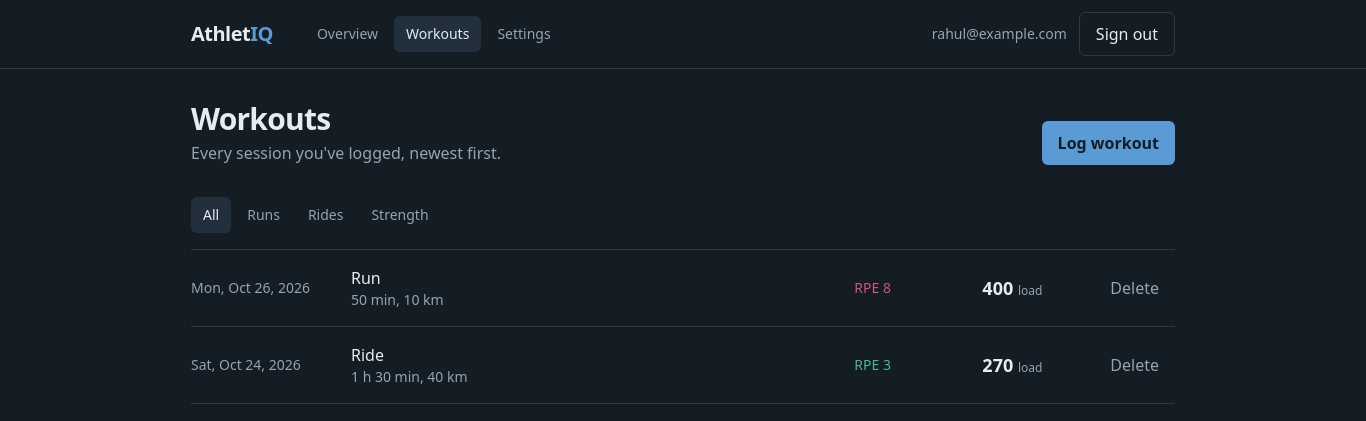
it: WorkoutsPage › filters by type through the API
Expected: the list named "Workout history" is shown, [191, 249, 1175, 404]
Click the button "Rides" at (326,215), box [296, 197, 355, 233]
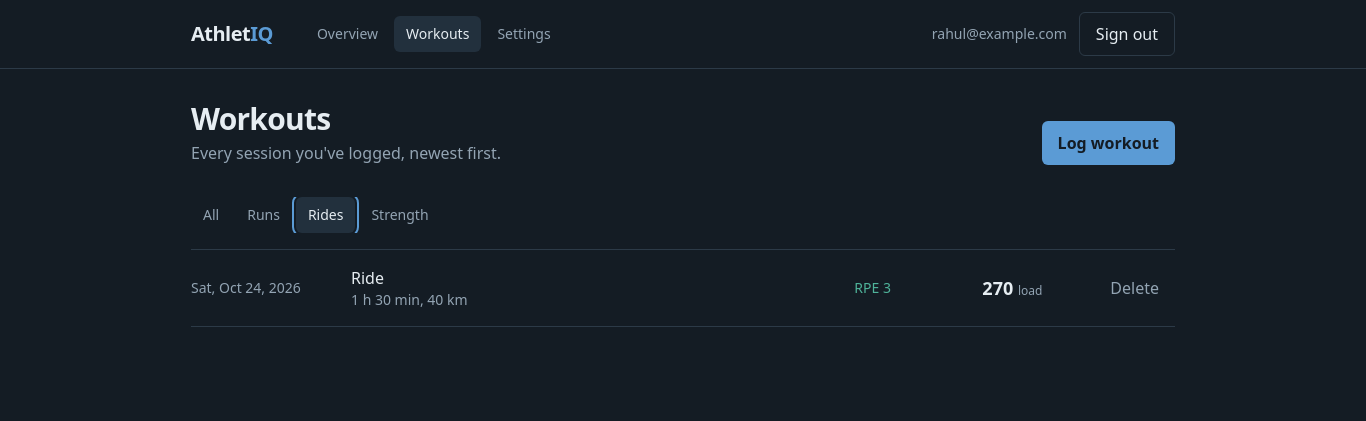
Expected: the number of list items is 1, [191, 250, 1175, 327]
